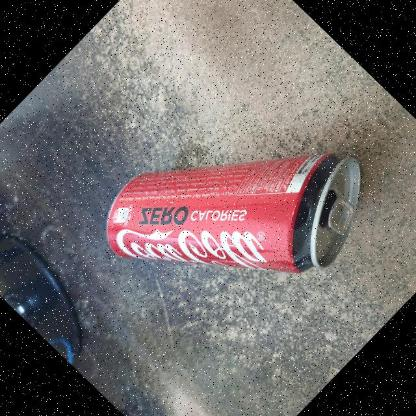Can: (103, 149, 363, 275)
